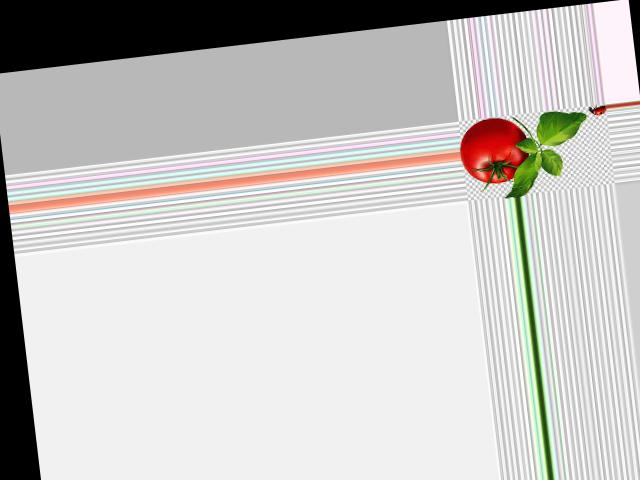tomato: (456, 114, 532, 186)
